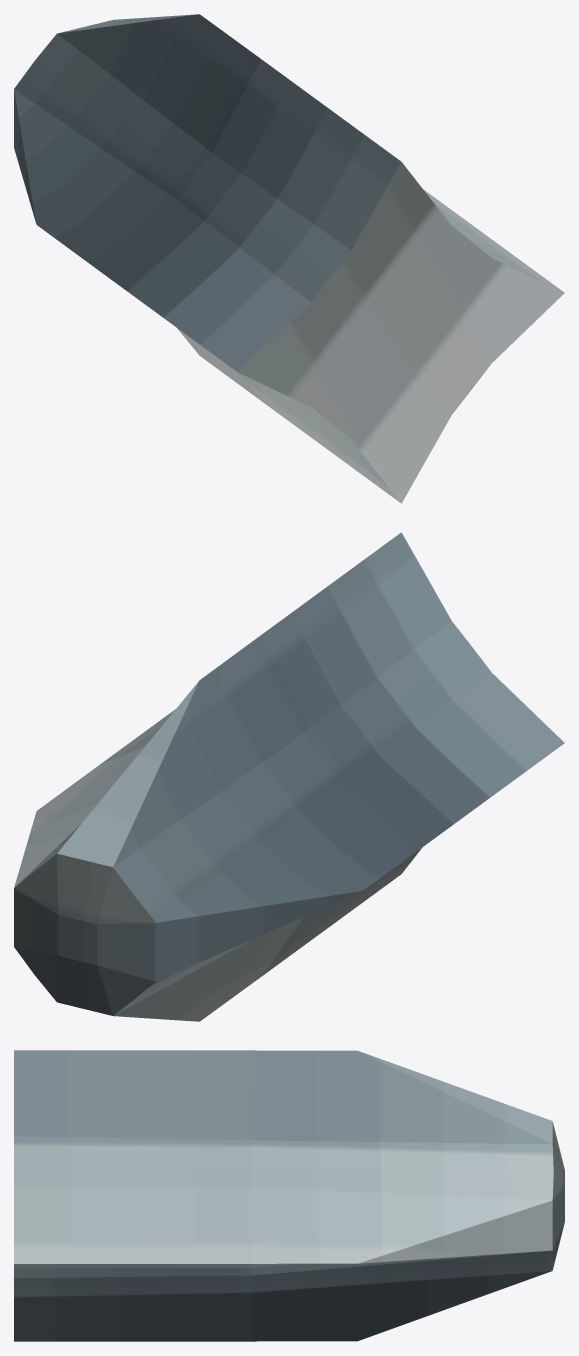
The model's file is screwdriver_head.fbx.
3 views of the same model, one above another, from view 1: azimuth 30°, elevation 25°; view 2: azimuth 150°, elevation 25°; view 3: azimuth 270°, elevation 25° (orthographic). The views are drawn at different scales.
Visible parts, largest first — view 1: metal_file.002; view 2: metal_file.002; view 3: metal_file.002.
Boxes of the visible parts, x1,y1,x2,y2 form: metal_file.002: (14, 14, 564, 503); metal_file.002: (14, 532, 564, 1021); metal_file.002: (14, 1050, 564, 1341).
Size of the model in its own units: 77.08 by 77.08 by 132.
Materials: 1 (1 with a texture image).
